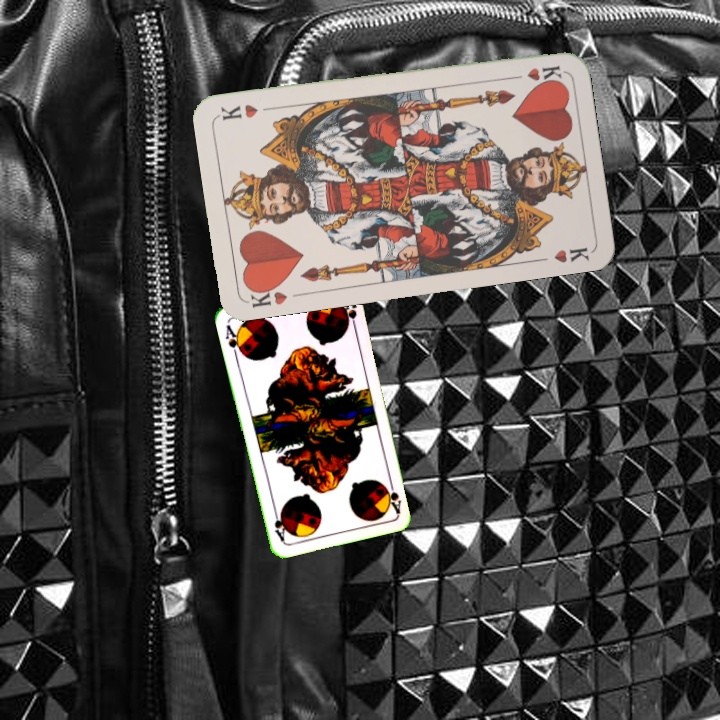HK: (243, 280, 290, 310), (504, 61, 564, 83)
SA: (221, 321, 246, 360), (381, 475, 404, 515)
